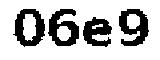0: (9, 5, 47, 52)
6: (48, 7, 81, 49)
9: (115, 5, 154, 50)
e: (82, 17, 113, 51)
